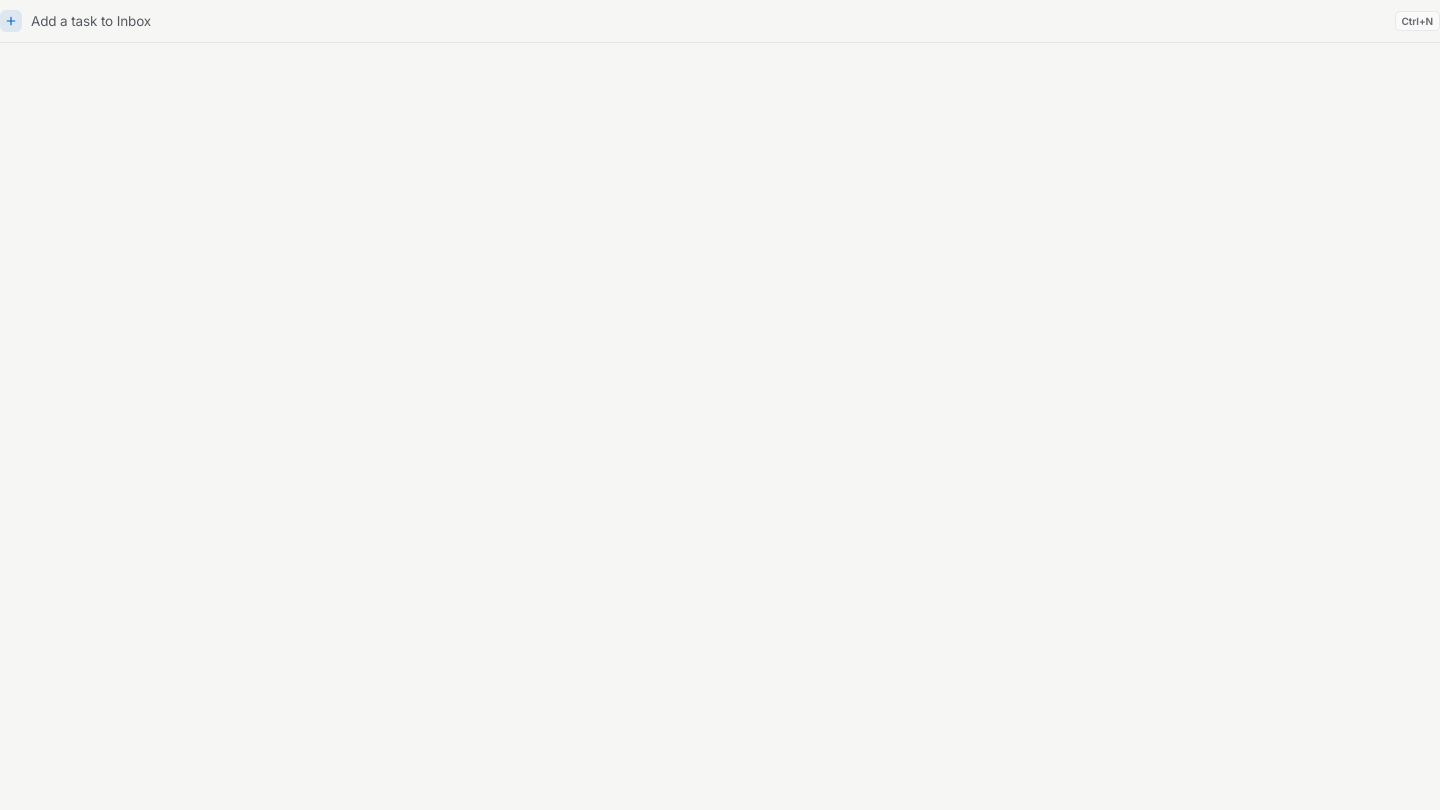
it: what the quick add can be told before the task exists › keeps the choices after a commit and clears only the title (§5.2)
Later steps or results of the test are not shown.
Click the button "Add a task to Inbox Ctrl+N" at point(91, 21), box x1=0 y1=0 x2=1439 y2=42
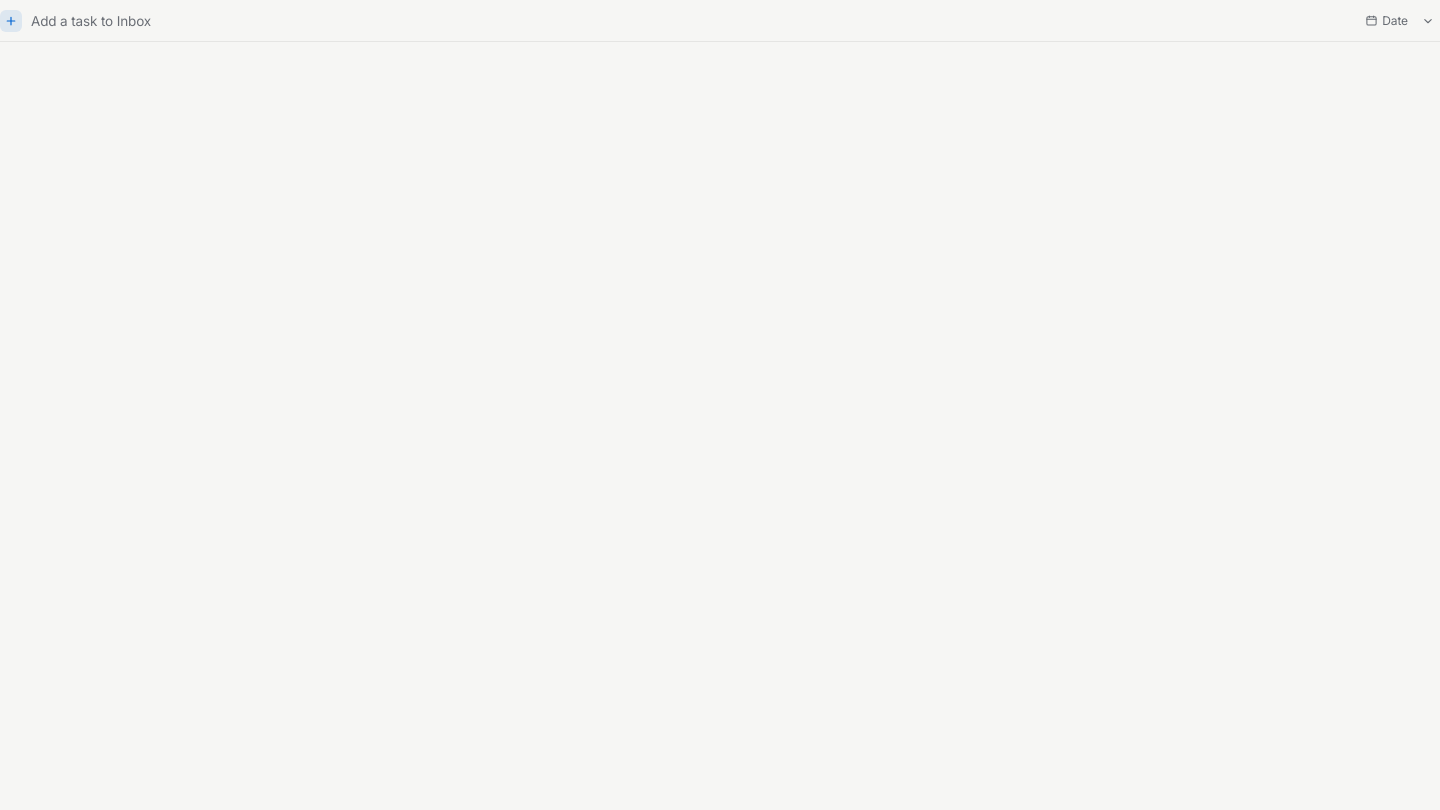
Click the button named "More options" at point(1428, 20), box x1=1416 y1=8 x2=1439 y2=32
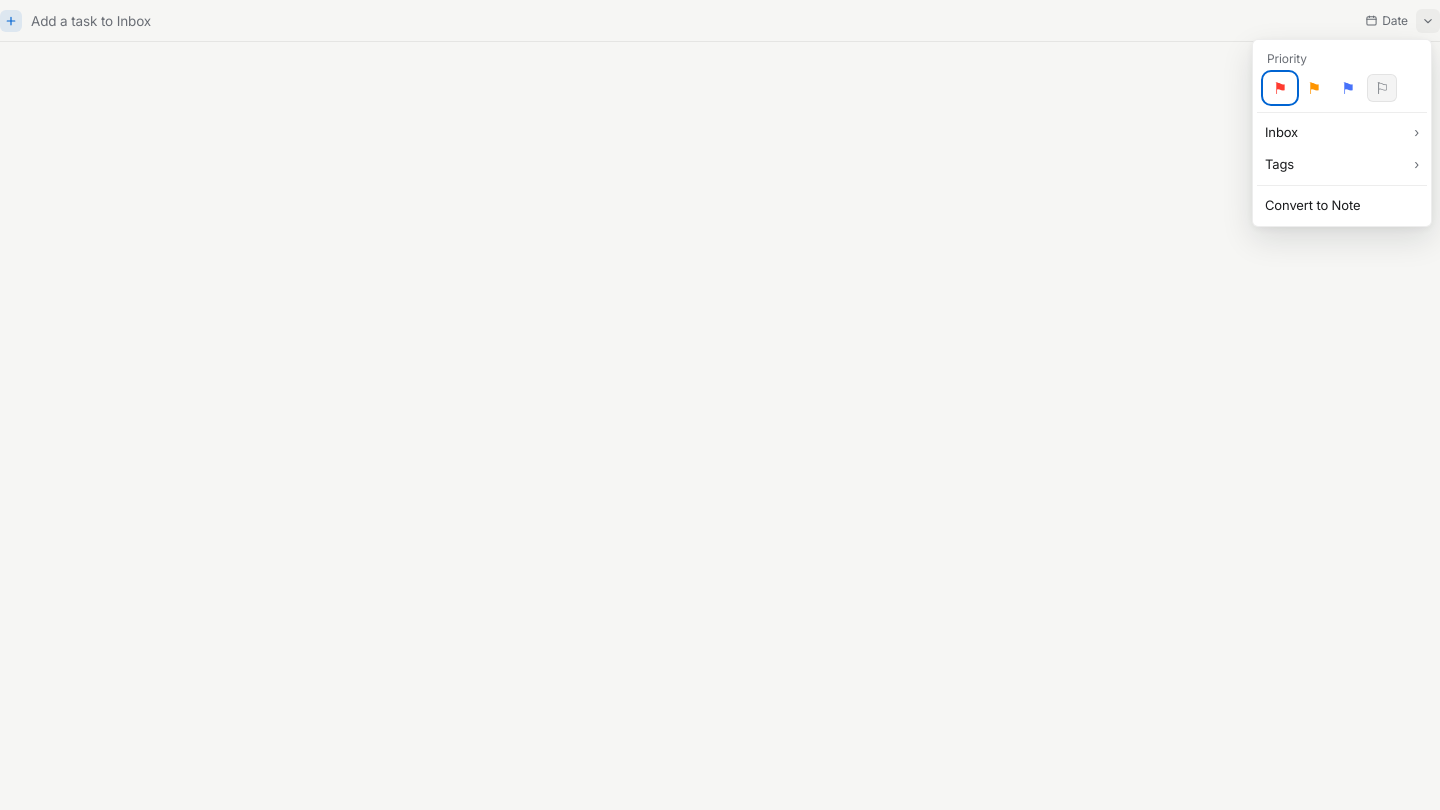
Click the radio button named "Medium" at point(1314, 88), box x1=1299 y1=74 x2=1329 y2=102
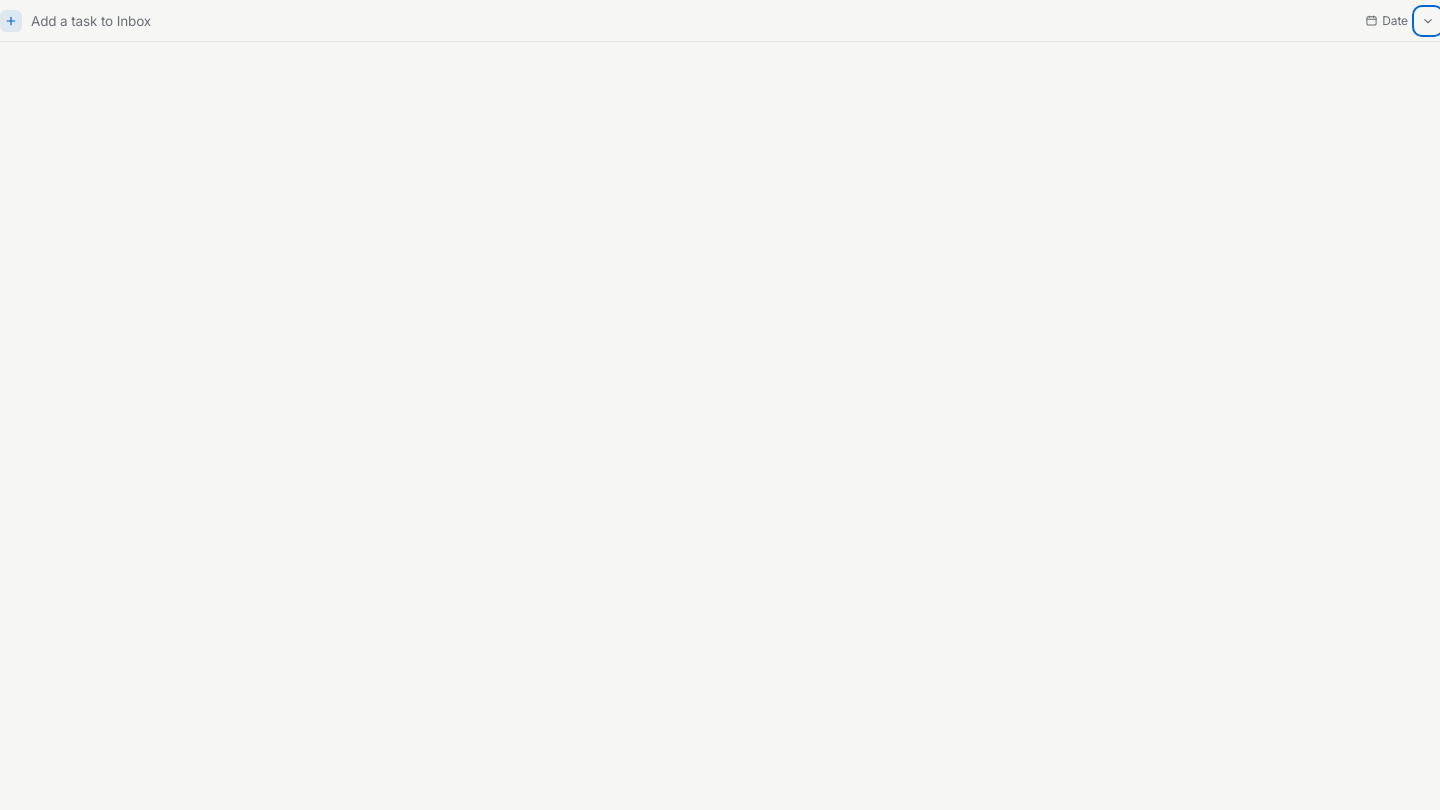
Type "One" into the field labelled "Add a task to Inbox" at point(691, 20), box x1=31 y1=12 x2=1350 y2=28
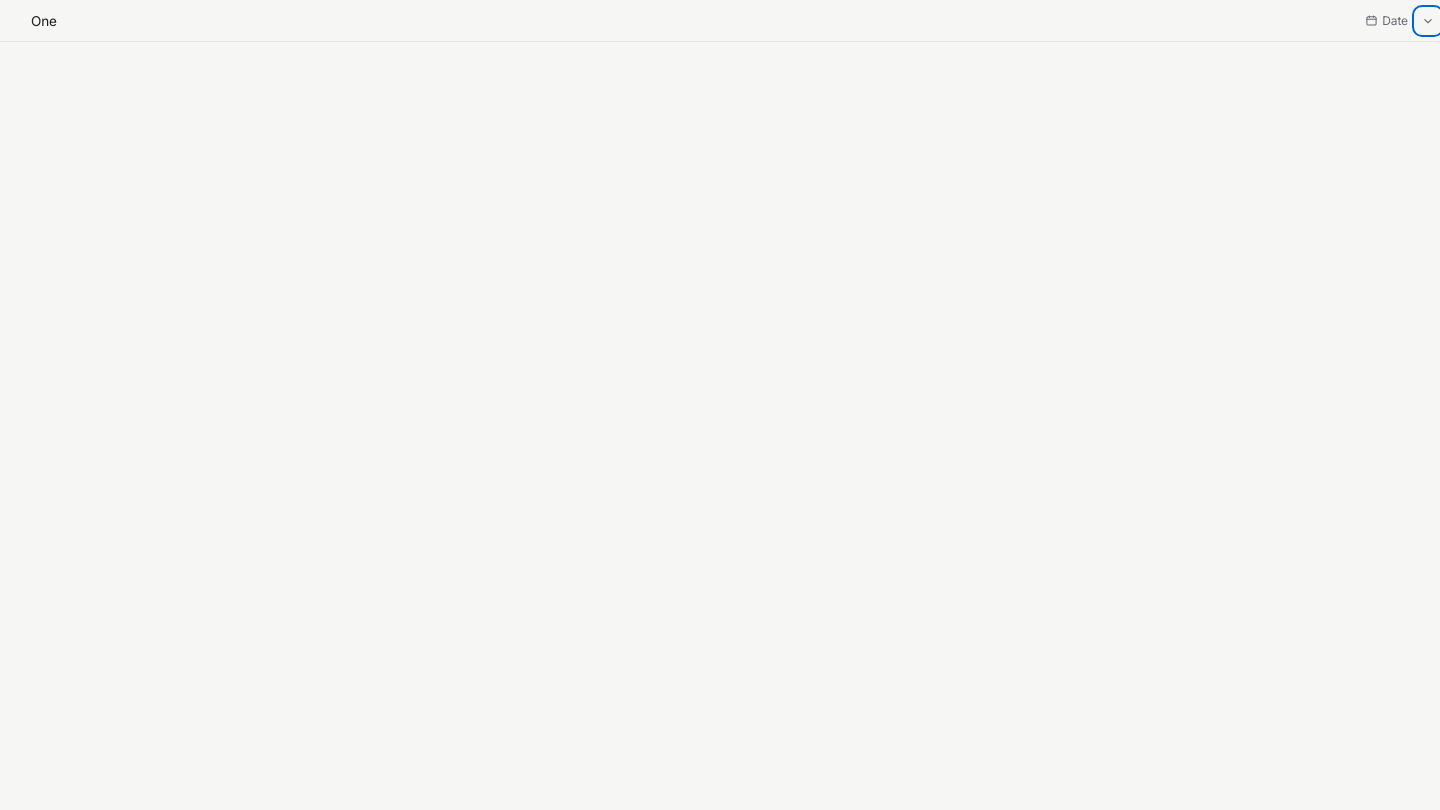
Submit the form named "Add a task", box x1=0 y1=0 x2=1439 y2=42
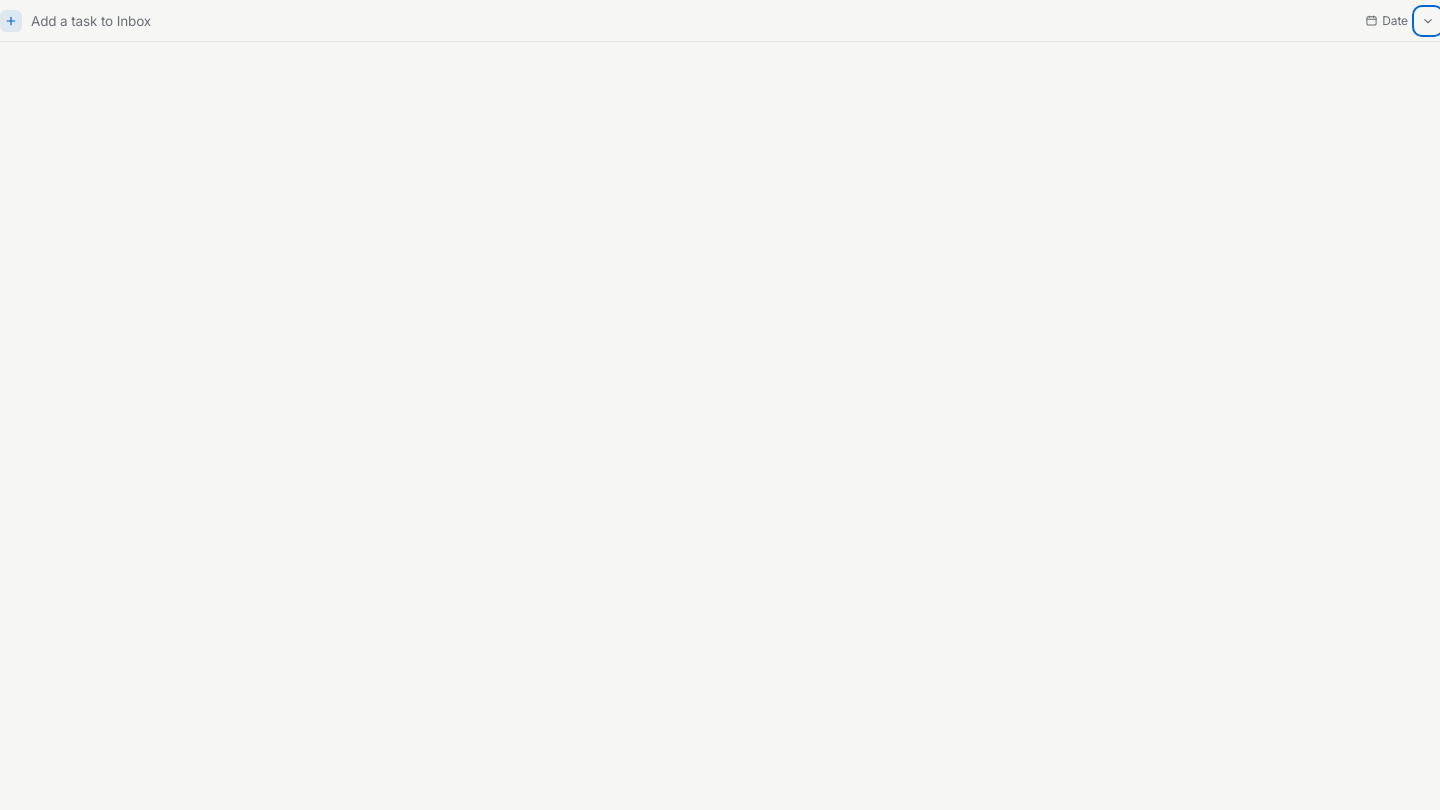
Now the field labelled "Add a task to Inbox" is empty, box x1=31 y1=12 x2=1350 y2=28
